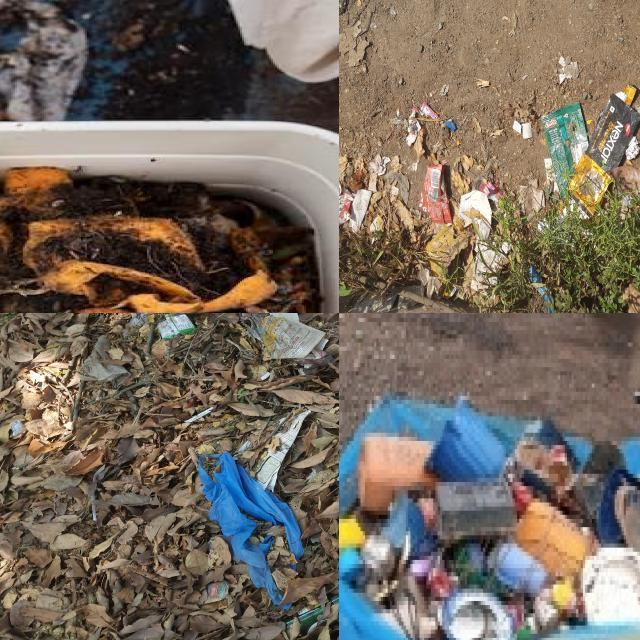Background: (339, 0, 640, 313)
Cig_pack: (204, 581, 229, 604)
Garbage: (0, 313, 339, 640), (339, 398, 640, 640), (0, 167, 316, 313)
Glass_bottle: (296, 607, 326, 635), (328, 594, 339, 605), (286, 621, 292, 627)
Plastic: (426, 398, 505, 481), (581, 546, 640, 624), (597, 466, 640, 552), (339, 518, 366, 550), (92, 465, 105, 482), (90, 495, 97, 522)
Plastic_Bag: (199, 452, 305, 605), (185, 407, 214, 422)
Plastic_bottle: (611, 136, 613, 139)
Plastic_wraper: (569, 86, 640, 214), (540, 103, 588, 197), (425, 225, 468, 277), (419, 164, 452, 225), (528, 265, 555, 313), (157, 313, 195, 339), (339, 177, 357, 224), (419, 101, 440, 122), (479, 178, 498, 197), (10, 421, 25, 438), (444, 120, 455, 130)
